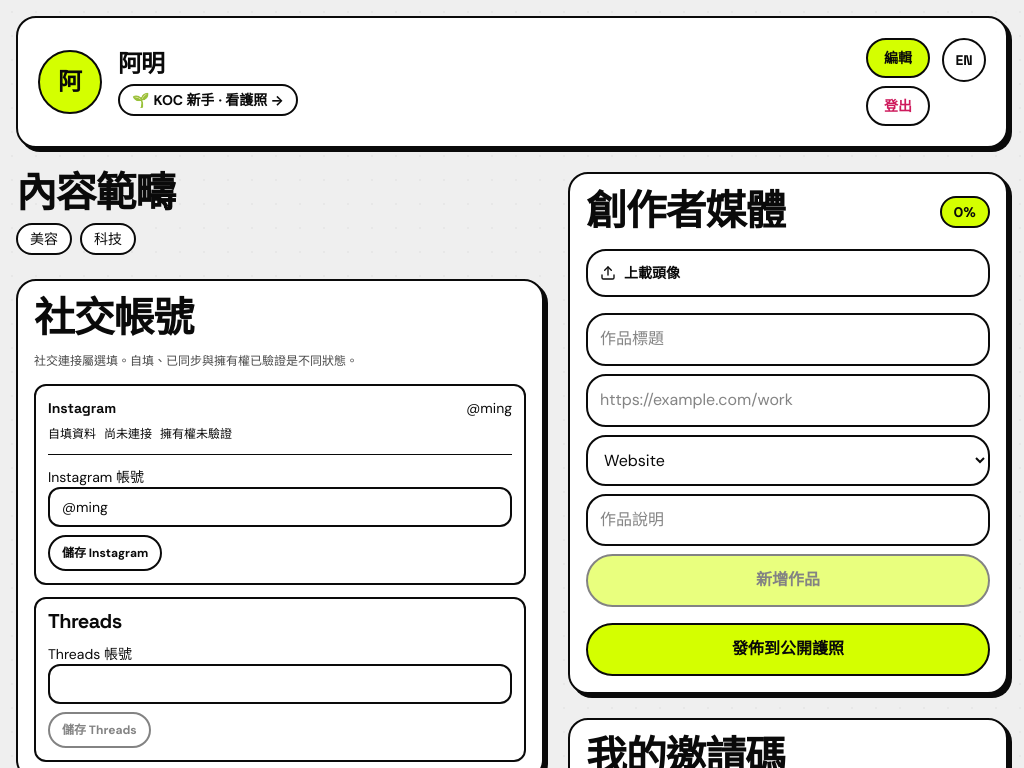
Test: Profile page › shows an error and stays in edit mode when save fails
Step 1. Click the button "編輯" → (898, 58), box [866,38,930,78]
(page scrolled)
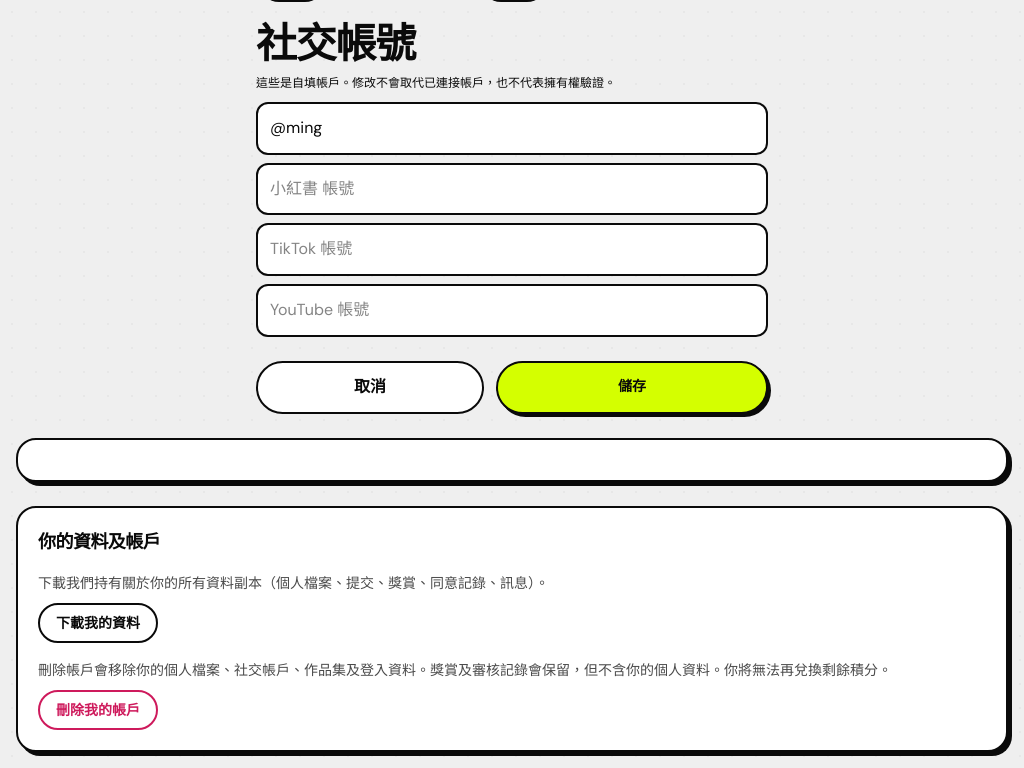
Step 2. Click the button "儲存" → (632, 387), box [496,361,768,414]
(page scrolled)
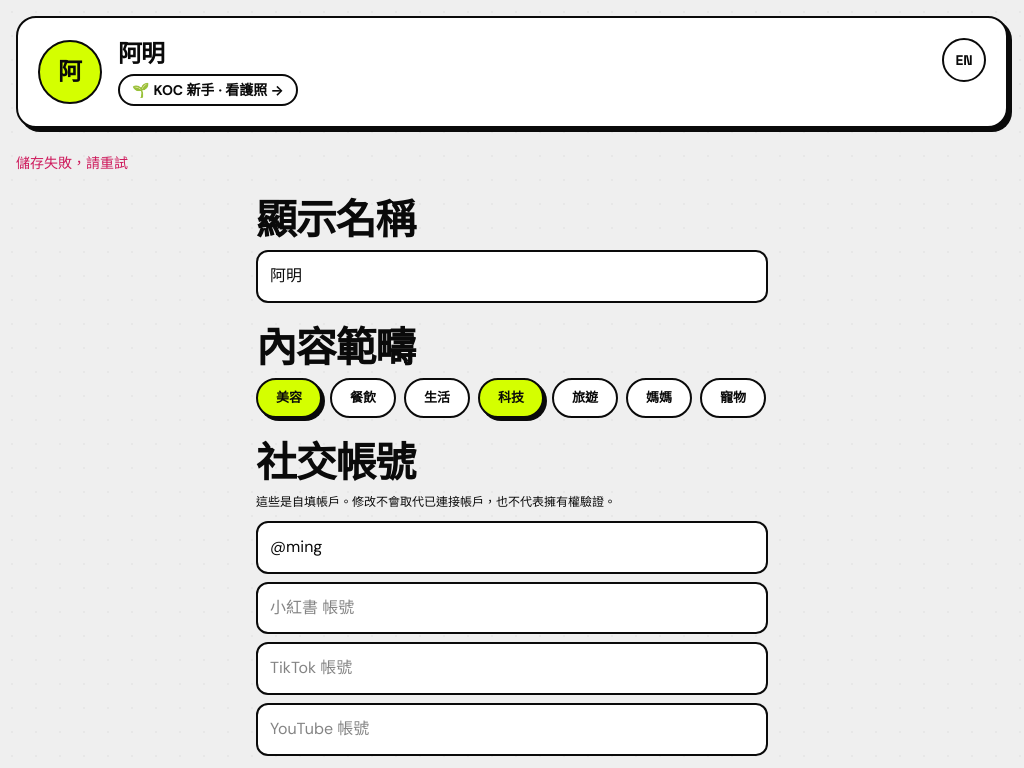
Expected: the field named "顯示名稱" is shown, [256,250,768,303]
Expected: the text "儲存失敗，請重試" is shown, [16,154,128,172]
